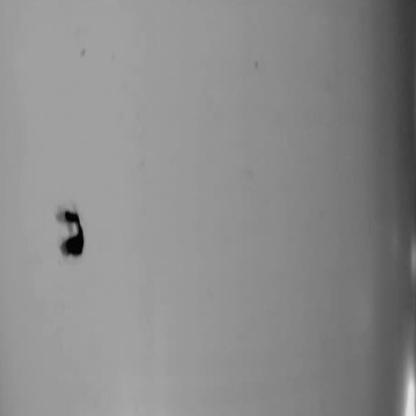kongdong: (47, 199, 102, 261)
